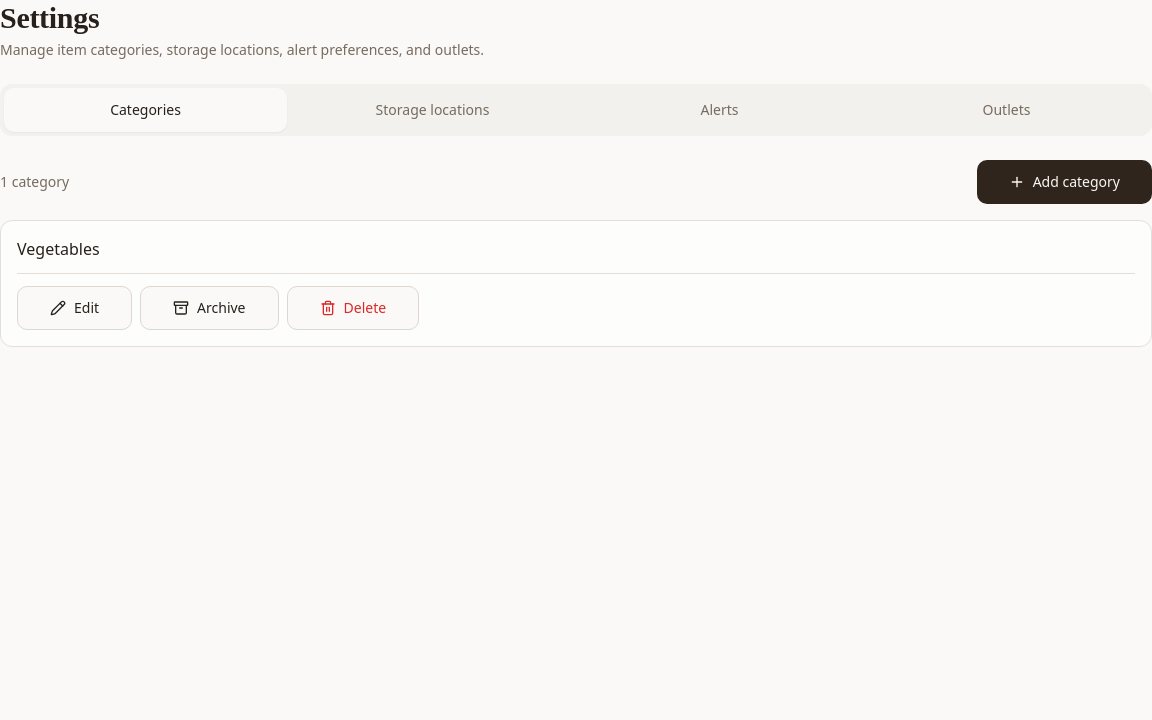
Scenario: SettingsPage › opens the create dialog
Click the button "Add category": (1064, 182) [977,160,1151,204]
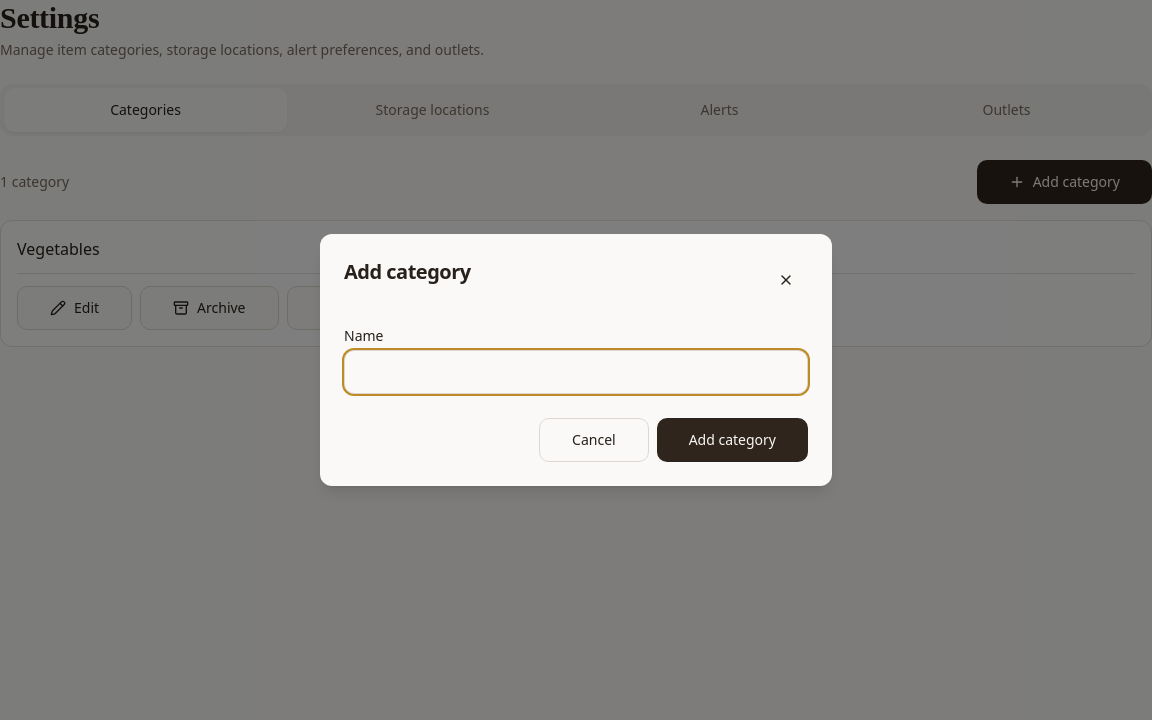
Check: the dialog is shown
Check: the heading "Add category" is shown, box [344,258,471,286]
